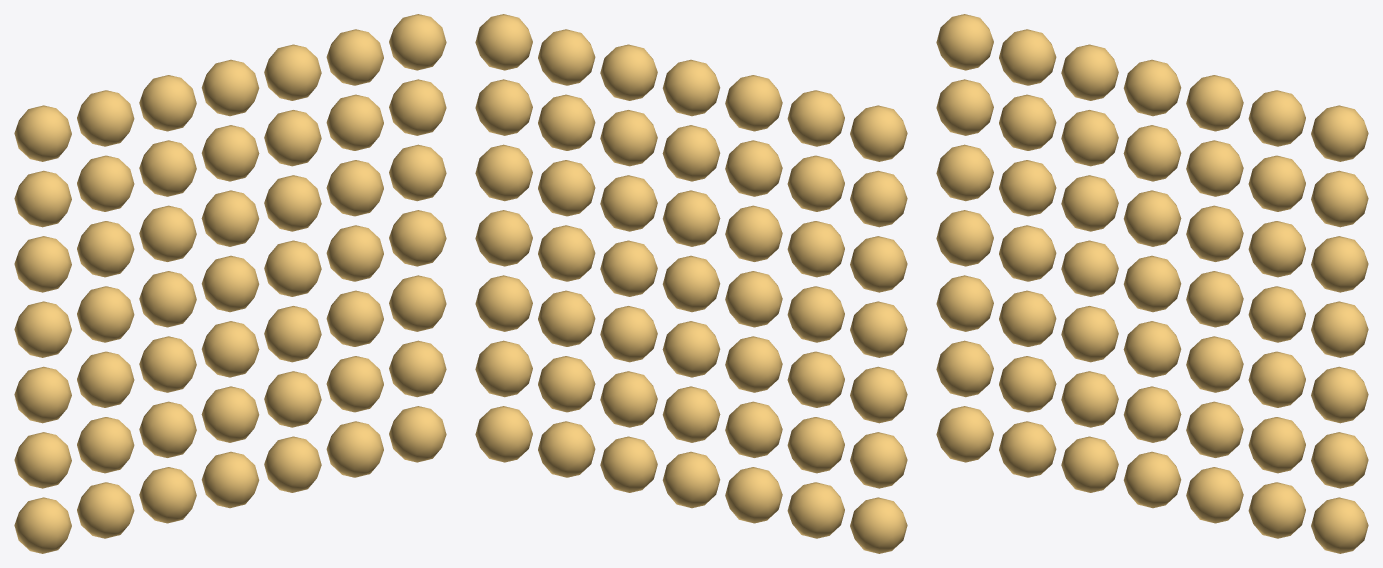
The picture shows the model from 3 angles, left to right: view 1: azimuth 30°, elevation 25°; view 2: azimuth 150°, elevation 25°; view 3: azimuth 330°, elevation 25°; orthographic projection.
Size of the model in its own units: 8.5 by 8.5 by 1.
